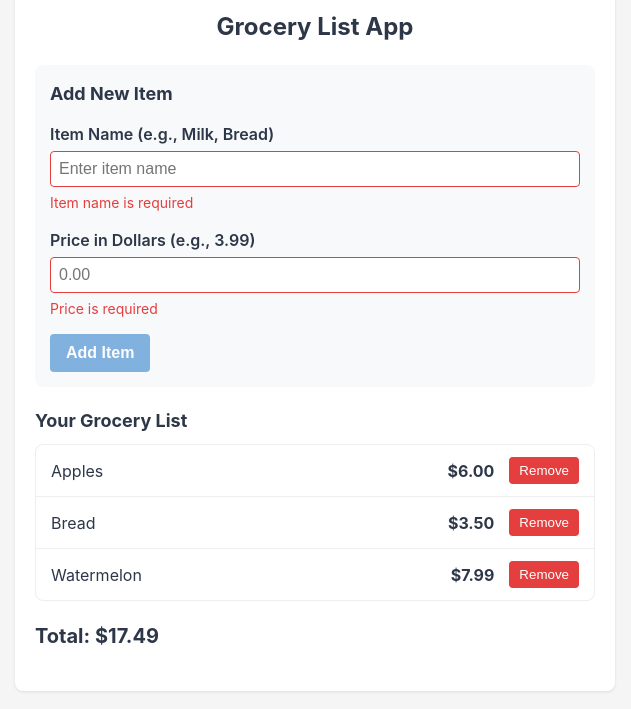
Test: Can remove a grocery item
expect the text "Apples" is shown: met, box [51,458,103,482]
Click the button "Remove" next to "6.00" at (544, 470), box [509,457,579,484]
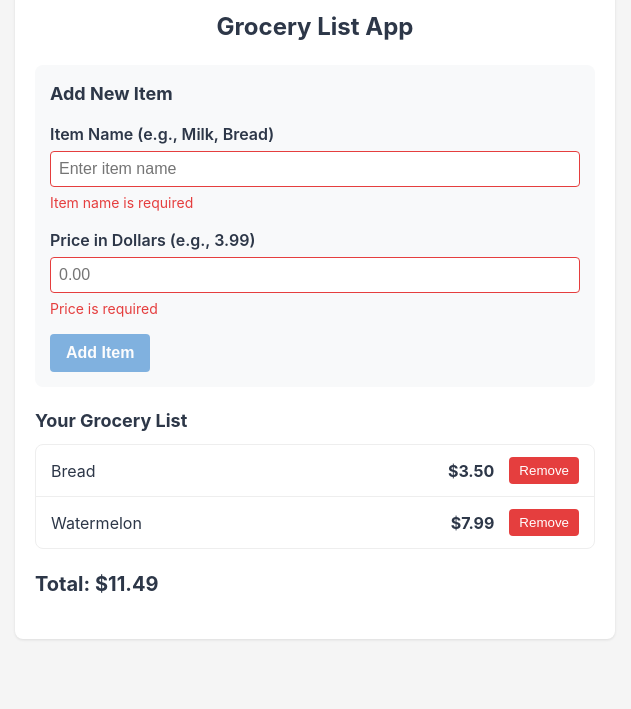
expect the text "Apples" is gone: met
